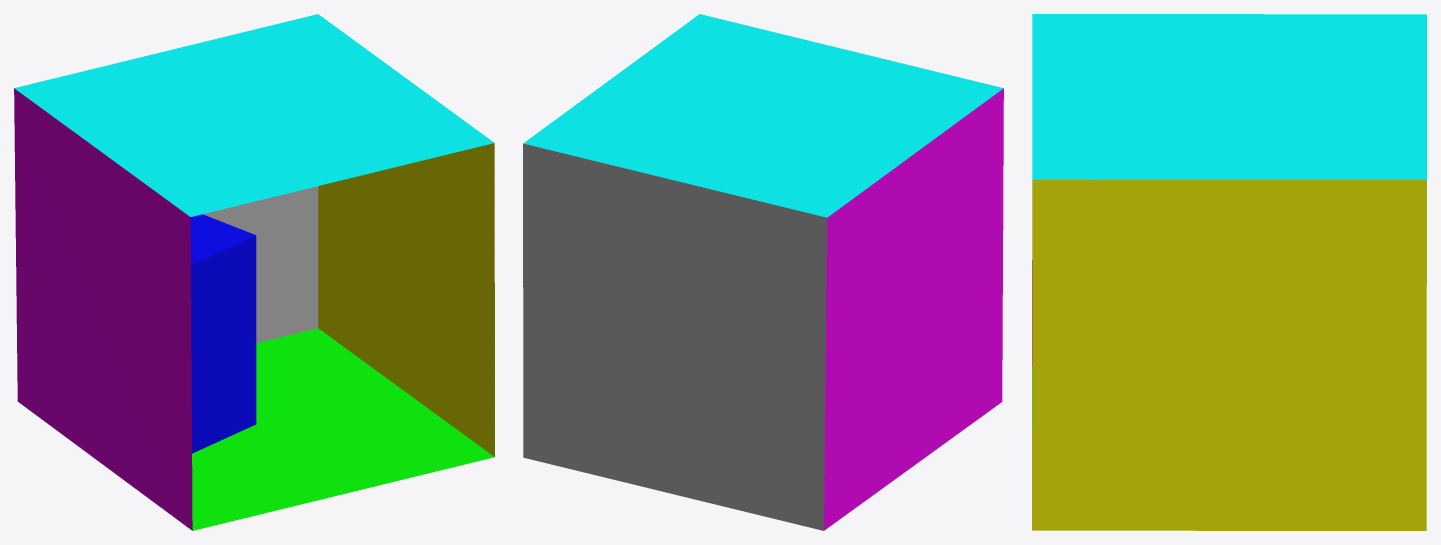
The model's file is cornell-box-no-red-box.obj.
3 views of the same model, side by side, from view 1: azimuth 30°, elevation 25°; view 2: azimuth 150°, elevation 25°; view 3: azimuth 270°, elevation 25° (orthographic). The views are drawn at different scales.
Parts seen in each view (by area): view 1: left_wall, ceiling, right_wall, floor, tall_box, back_wall; view 2: back_wall, left_wall, ceiling; view 3: right_wall, ceiling.
Part boxes in pixels (x1=…): left_wall: x1=14, y1=88, x2=192, y2=530; ceiling: x1=14, y1=14, x2=494, y2=216; right_wall: x1=318, y1=143, x2=494, y2=456; floor: x1=192, y1=328, x2=494, y2=530; tall_box: x1=190, y1=214, x2=256, y2=453; back_wall: x1=203, y1=186, x2=318, y2=343; back_wall: x1=523, y1=143, x2=827, y2=530; left_wall: x1=824, y1=88, x2=1003, y2=530; ceiling: x1=523, y1=14, x2=1003, y2=217; right_wall: x1=1032, y1=179, x2=1426, y2=530; ceiling: x1=1032, y1=14, x2=1426, y2=179.
Bounding box in the file's own units: 5.56 × 5.49 × 5.6.
